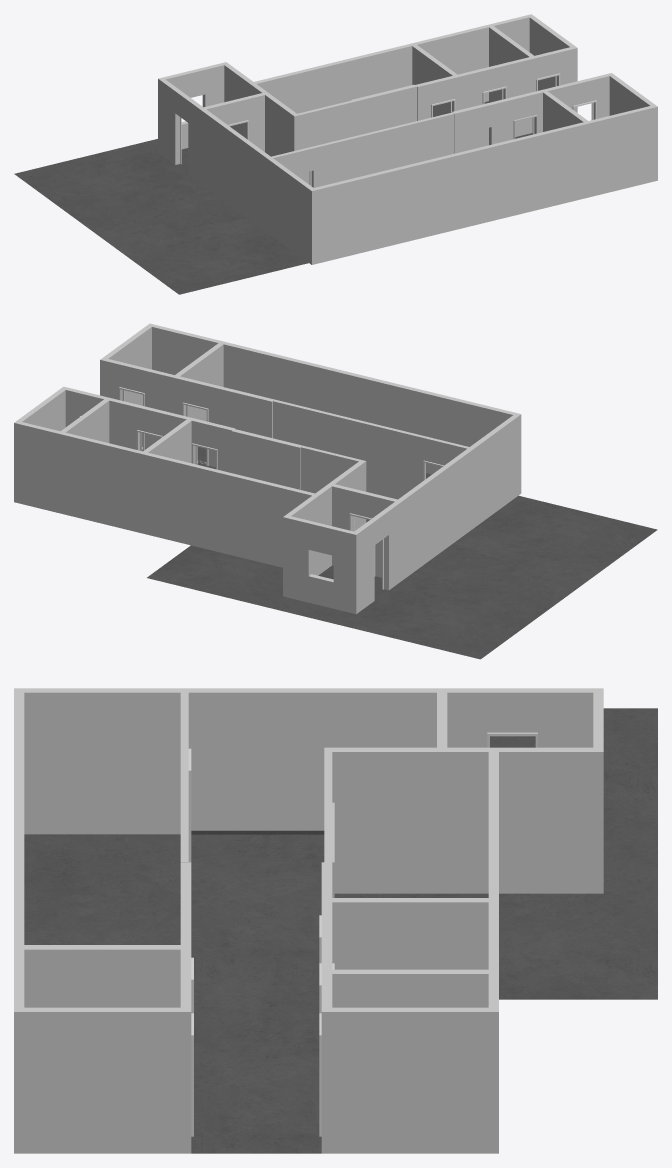
File: migrant 15.fbx
The picture shows the model from 3 angles, top to bottom: view 1: azimuth 30°, elevation 25°; view 2: azimuth 150°, elevation 25°; view 3: azimuth 270°, elevation 25°; orthographic projection. The views are drawn at different scales.
Visible parts, largest first — view 1: Cube.008, Cube.009, Sol, Cube.004, Cube.011, Cube.010; view 2: Cube.009, Cube.008, Sol, Cube.004, Cube.011, Cube.010; view 3: Sol, Cube.009, Cube.008, Cube.004, Cube.011, Cube.010, Plinthe au sol.011.
Boxes of the visible parts, x1,y1,x2,y2 form: Cube.008: (199, 82, 493, 264); Cube.009: (367, 14, 657, 220); Sol: (14, 101, 532, 294); Cube.004: (158, 62, 252, 181); Cube.011: (254, 54, 369, 113); Cube.010: (350, 84, 416, 135); Cube.009: (14, 323, 325, 545); Cube.008: (273, 366, 521, 581); Sol: (142, 433, 657, 659); Cube.004: (283, 495, 399, 614); Cube.011: (191, 464, 314, 567); Cube.010: (232, 429, 302, 489); Sol: (24, 708, 657, 1153); Cube.009: (14, 858, 498, 1153); Cube.008: (14, 688, 498, 893); Cube.004: (447, 688, 603, 893); Cube.011: (488, 752, 498, 857); Cube.010: (324, 802, 334, 897); Plinthe au sol.011: (191, 830, 324, 834).
Size of the model in its own units: 2022 by 300 by 1235.
4 materials, 1 textured.
